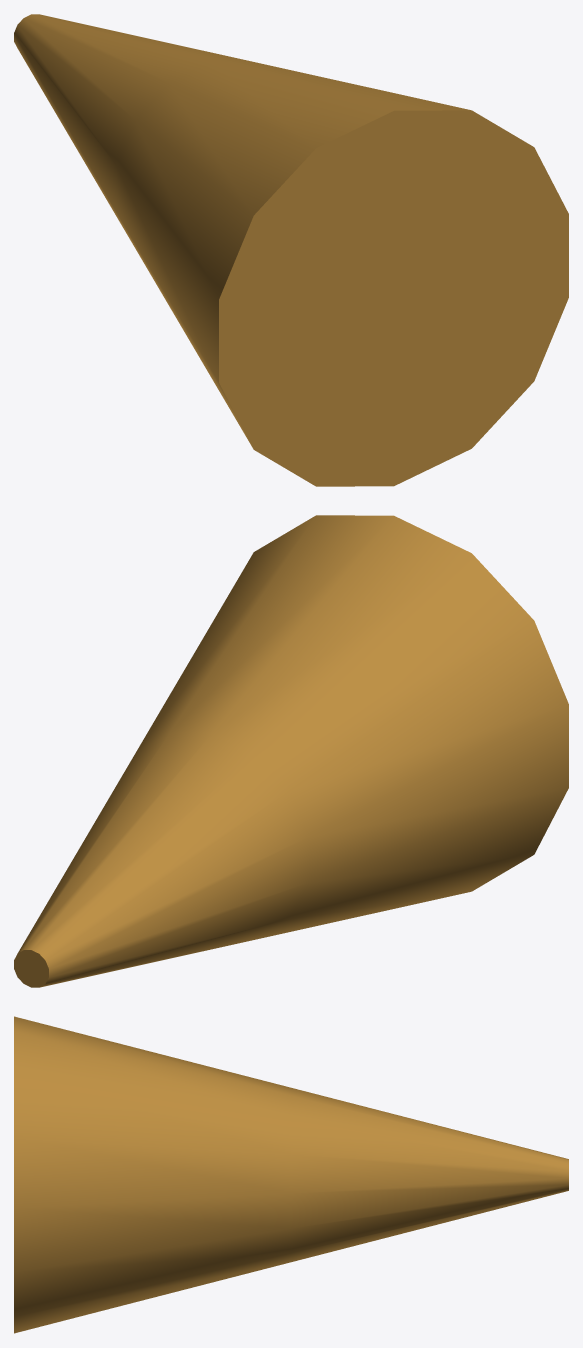
File: piercing.glb
The picture shows the model from 3 angles, top to bottom: view 1: azimuth 30°, elevation 25°; view 2: azimuth 150°, elevation 25°; view 3: azimuth 270°, elevation 25°; orthographic projection. The views are drawn at different scales.
Parts seen in each view (by area): view 1: _MeshInstance3D_191; view 2: _MeshInstance3D_191; view 3: _MeshInstance3D_191.
Part boxes in pixels (<box>): _MeshInstance3D_191: <box>14,14,568,486</box>; _MeshInstance3D_191: <box>14,515,568,987</box>; _MeshInstance3D_191: <box>14,1016,568,1333</box>.
Size of the model in its own units: 0.39 by 0.4 by 0.7.
